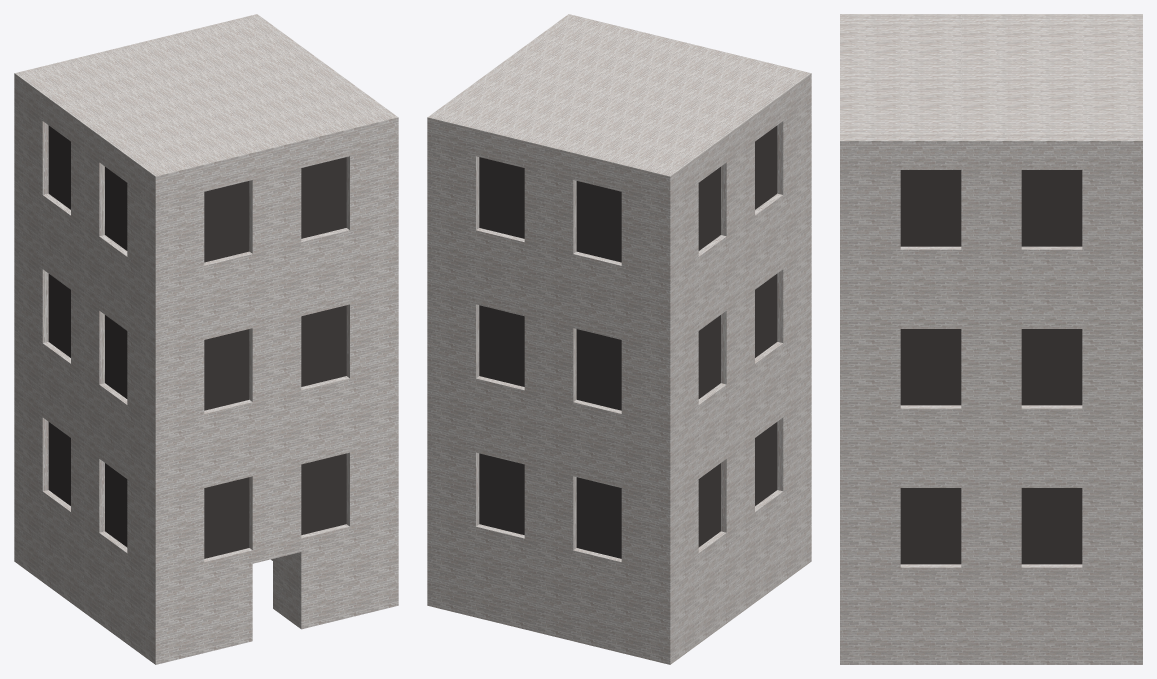
Rendered from Building_MiniDeadEnd.glb.
The picture shows the model from 3 angles, left to right: view 1: azimuth 30°, elevation 25°; view 2: azimuth 150°, elevation 25°; view 3: azimuth 270°, elevation 25°; orthographic projection. The views are drawn at different scales.
Visible parts, largest first — view 1: MiniDeadEnd; view 2: MiniDeadEnd; view 3: MiniDeadEnd.
Part boxes in pixels (<box>): MiniDeadEnd: <box>14,14,398,664</box>; MiniDeadEnd: <box>427,14,811,664</box>; MiniDeadEnd: <box>840,14,1142,664</box>.
Size of the model in its own units: 19.6 by 37.67 by 19.74.
Materials: 3 (1 with a texture image).
